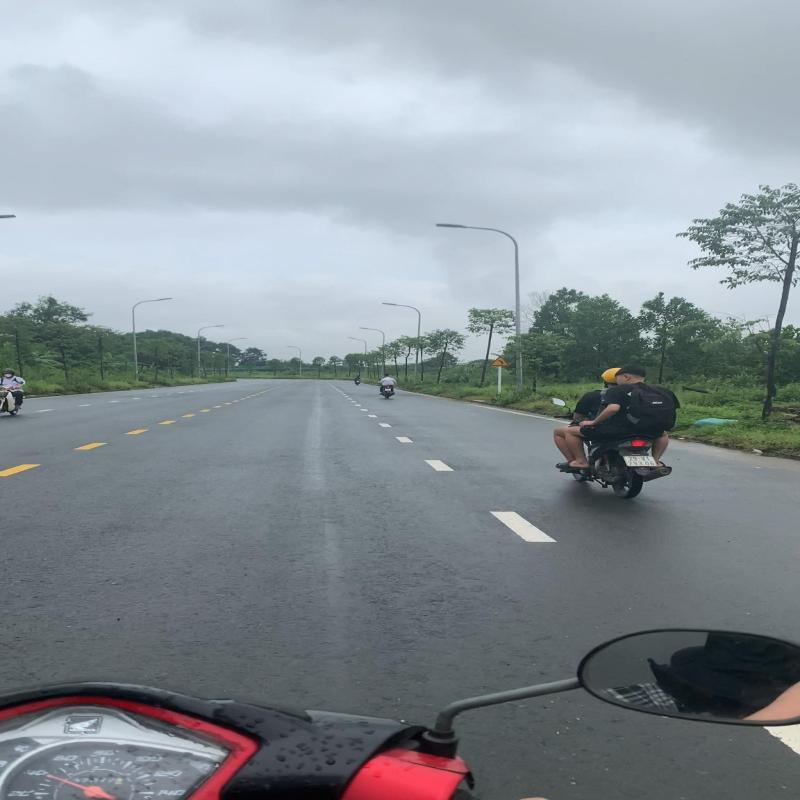helmet: (601, 367, 623, 385)
licenseplate: (621, 455, 660, 468)
motorcyclist: (548, 364, 684, 501)
nohelmet: (614, 365, 648, 384)
